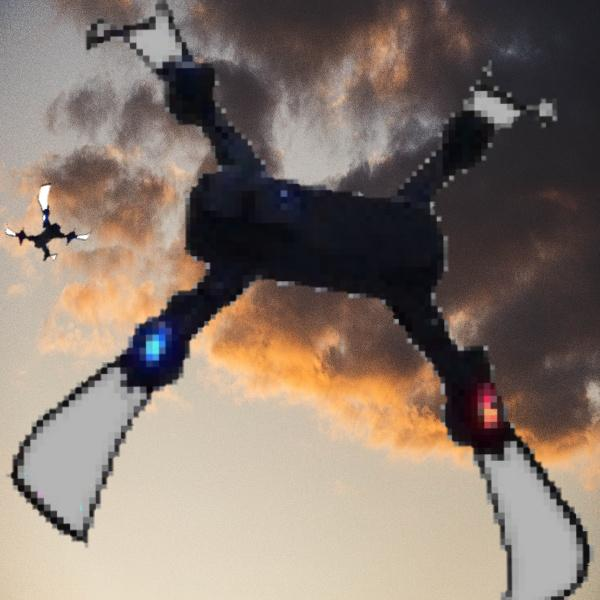drone: (8, 177, 99, 268)
